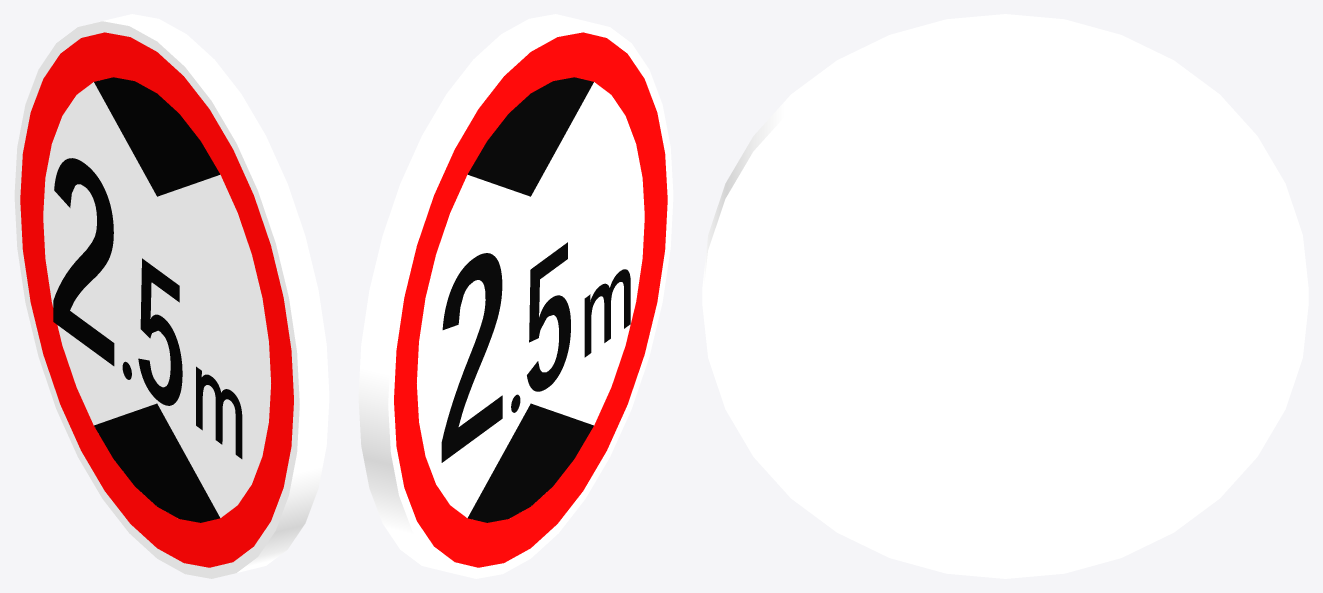
File: Height_Limit_2.5.glb
3 renders of one model, left to right at view 1: azimuth 30°, elevation 25°; view 2: azimuth 150°, elevation 25°; view 3: azimuth 270°, elevation 25°, orthographic. The views are drawn at different scales.
Visible parts, largest first — view 1: Height_Limit_2_5; view 2: Height_Limit_2_5; view 3: Height_Limit_2_5.
Boxes of the visible parts, x1,y1,x2,y2 form: Height_Limit_2_5: [14, 14, 329, 578]; Height_Limit_2_5: [358, 14, 673, 578]; Height_Limit_2_5: [702, 14, 1308, 578].
Bounding box in the file's own units: 0.075 × 1 × 1.
